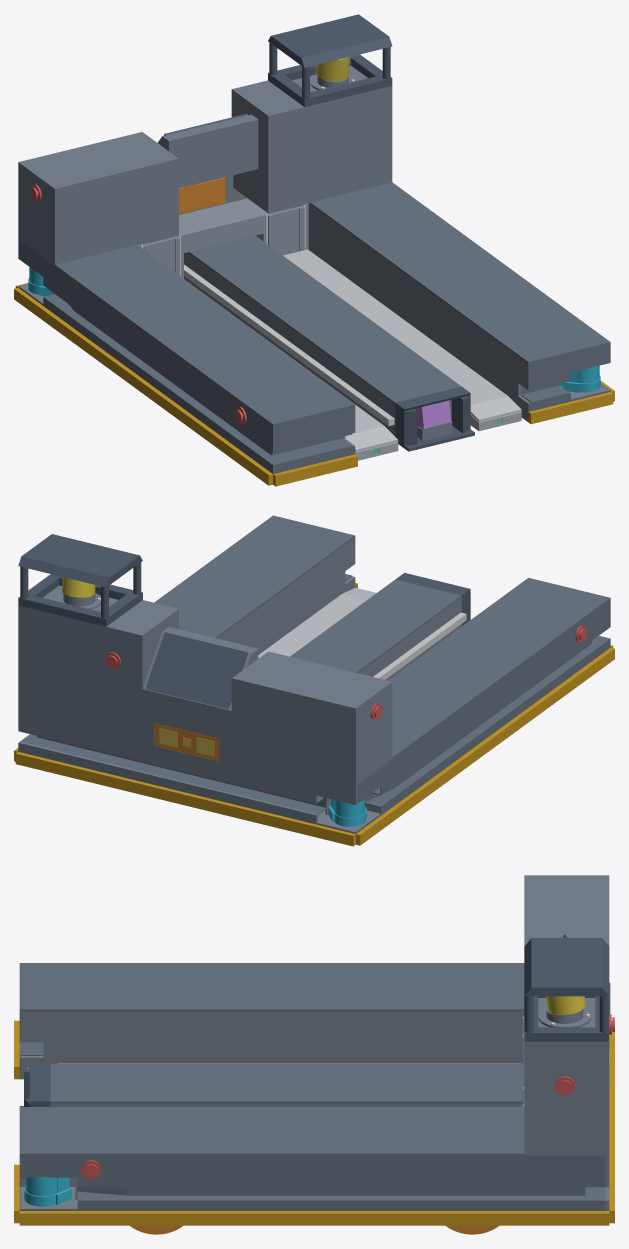
File: hd30x_1500kg_scissor.glb
The picture shows the model from 3 angles, top to bottom: view 1: azimuth 30°, elevation 25°; view 2: azimuth 150°, elevation 25°; view 3: azimuth 270°, elevation 25°; orthographic projection. The views are drawn at different scales.
Parts seen in each view (by area): view 1: pod_top_R, pod_top_L, spine_top_6t, tower_front_L, pod_wall_in_L, tower_front_R, pod_skin_R_up, fork_weigh_shoe_L, hmi_open_console_4t, tower_deck_R_6t, bumper_side_R, spine_wall_R (+27 smaller); view 2: tower_rear_plate_up_10t, pod_top_R, pod_top_L, spine_top_6t, pod_skin_R_up, pod_wall_in_L, rear_hmi_10in, tower_deck_R_6t, bumper_rear, bumper_side_R, tower_armor_roof_8t, tower_rear_plate_low_10t (+18 smaller); view 3: pod_wall_in_R, pod_top_L, pod_top_R, spine_top_6t, pod_skin_L_up, bumper_side_L, tower_door_L, pod_skin_L_low, tower_deck_R_6t, tower_armor_roof_8t, pod_skin_L_waist, pod_skin_L_waist_bot (+10 smaller).
Part boxes in pixels (bbox=[...]): pod_top_R: bbox=[55, 245, 355, 426]; pod_top_L: bbox=[310, 182, 610, 363]; spine_top_6t: bbox=[188, 235, 461, 403]; tower_front_L: bbox=[268, 87, 392, 211]; pod_wall_in_L: bbox=[308, 203, 530, 419]; tower_front_R: bbox=[54, 160, 178, 264]; pod_skin_R_up: bbox=[20, 241, 272, 451]; fork_weigh_shoe_L: bbox=[283, 249, 521, 421]; hmi_open_console_4t: bbox=[158, 114, 258, 188]; tower_deck_R_6t: bbox=[18, 132, 178, 190]; bumper_side_R: bbox=[14, 288, 272, 485]; spine_wall_R: bbox=[184, 252, 395, 436]; tower_rear_plate_up_10t: bbox=[18, 607, 357, 804]; pod_top_R: bbox=[388, 578, 610, 758]; pod_top_L: bbox=[154, 515, 355, 638]; spine_top_6t: bbox=[290, 579, 461, 673]; pod_skin_R_up: bbox=[357, 600, 610, 803]; pod_wall_in_L: bbox=[217, 538, 354, 654]; rear_hmi_10in: bbox=[145, 632, 247, 708]; tower_deck_R_6t: bbox=[231, 651, 392, 710]; bumper_rear: bbox=[15, 752, 355, 846]; bumper_side_R: bbox=[356, 647, 614, 845]; tower_armor_roof_8t: bbox=[18, 534, 142, 587]; tower_rear_plate_low_10t: bbox=[18, 741, 357, 833]; pod_wall_in_R: bbox=[21, 1011, 524, 1076]; pod_top_L: bbox=[19, 1107, 524, 1155]; pod_top_R: bbox=[19, 963, 524, 1011]; spine_top_6t: bbox=[50, 1064, 524, 1103]; pod_skin_L_up: bbox=[21, 1155, 605, 1186]; bumper_side_L: bbox=[19, 1211, 609, 1225]; tower_door_L: bbox=[525, 1044, 605, 1153]; pod_skin_L_low: bbox=[21, 1201, 605, 1210]; tower_deck_R_6t: bbox=[524, 875, 609, 946]; tower_armor_roof_8t: bbox=[524, 938, 609, 996]; pod_skin_L_waist: bbox=[77, 1187, 584, 1195]; pod_skin_L_waist_bot: bbox=[77, 1191, 584, 1201].
Bounding box in the file's own units: 1.2 × 0.76 × 1.56.
